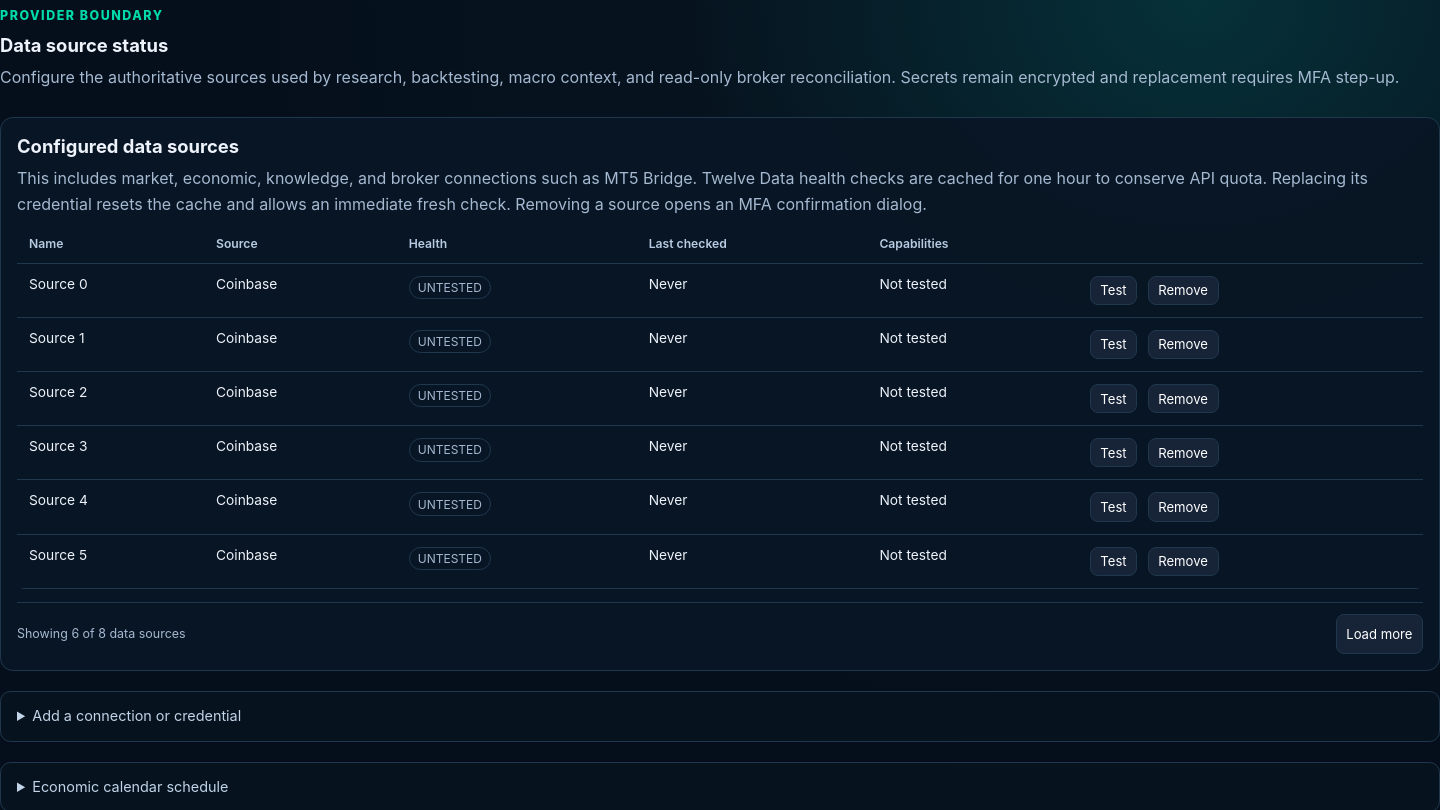
hiding and redisplaying a source retains its busy state and prevents duplicate checks
Click the button with aria-label "Load more data sources".
click(1379, 634)  # box [1336,614,1423,654]
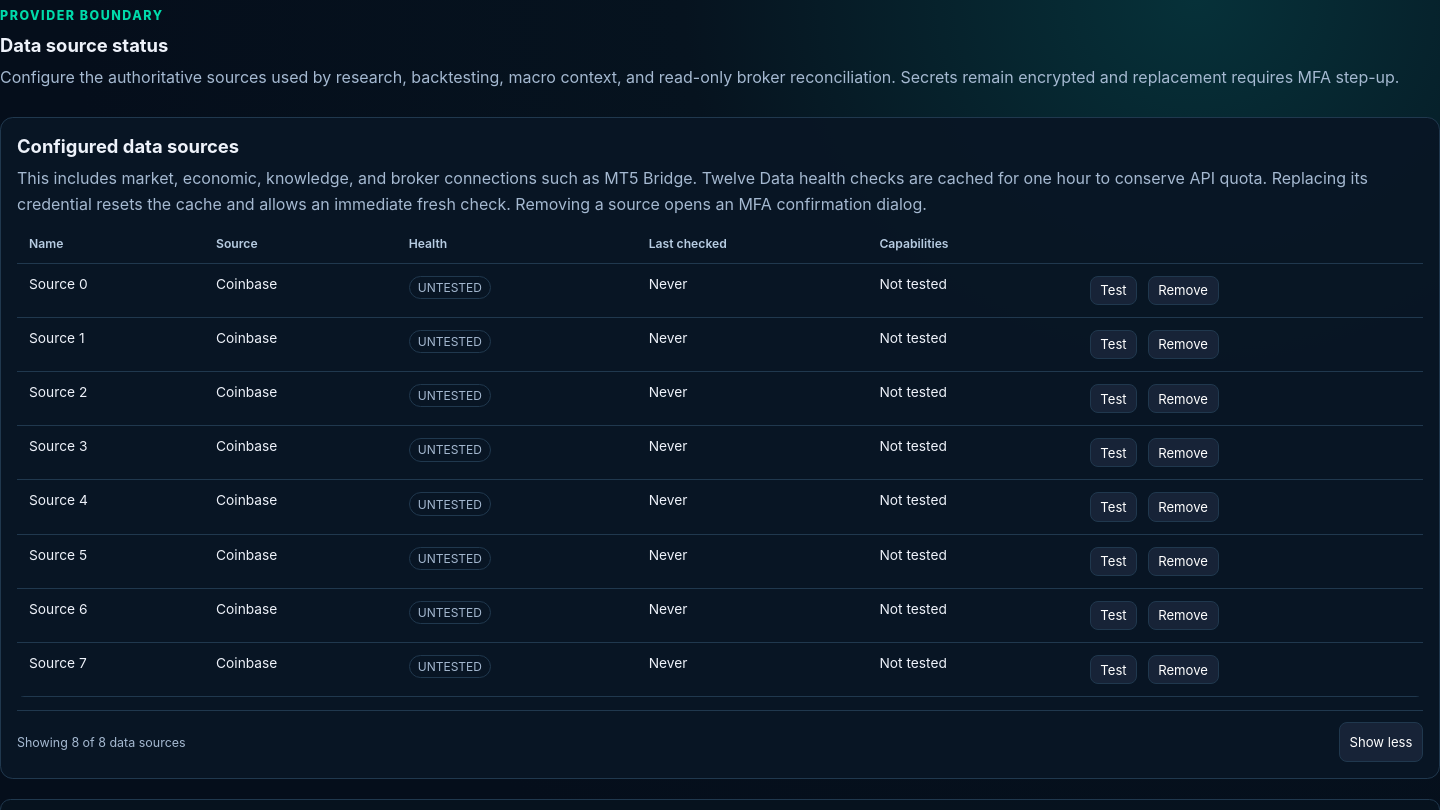
Click the button "Test" in the row of "Source 7".
click(1113, 670)  # box [1090,655,1137,684]
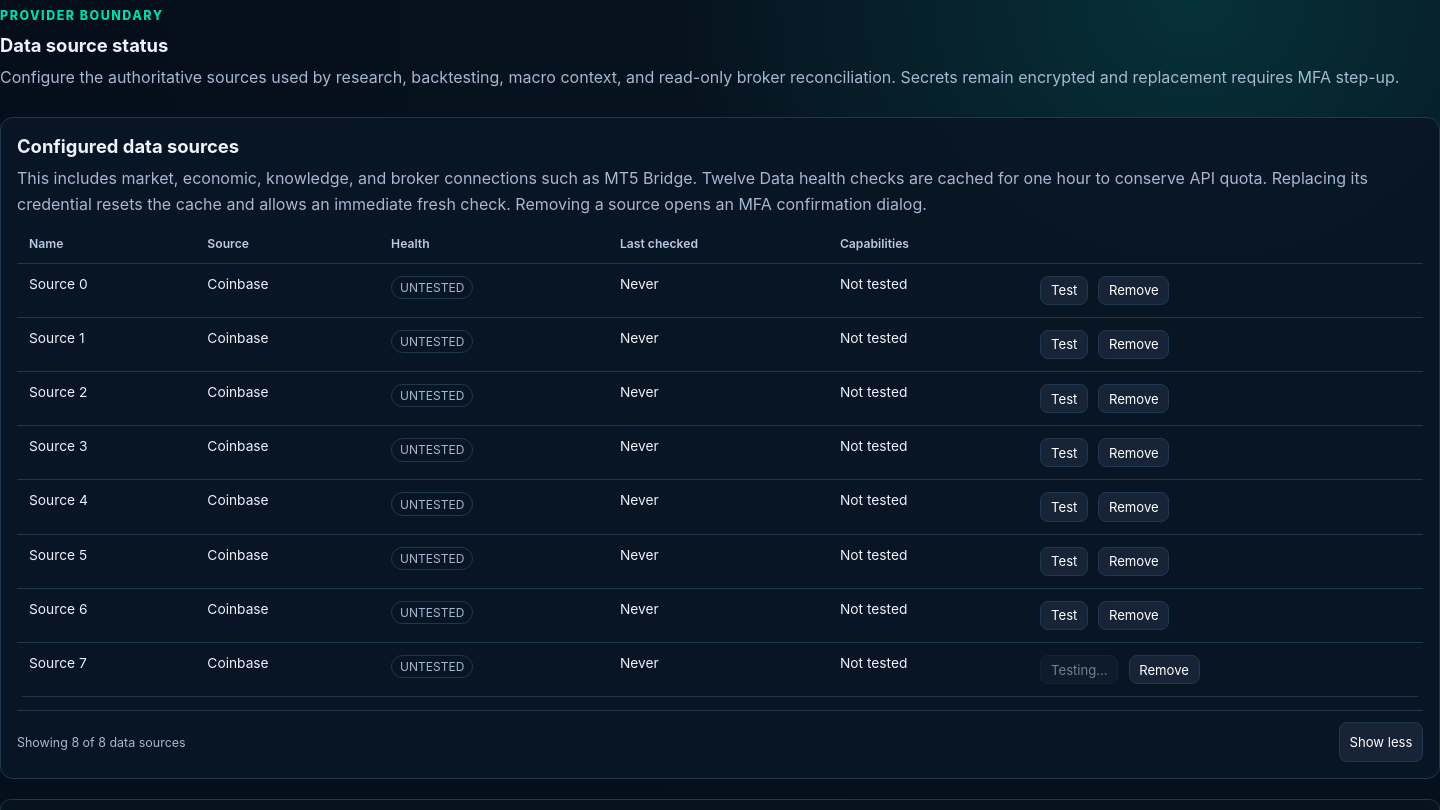
Click the button with aria-label "Show fewer data sources".
click(1381, 742)  # box [1339,722,1423,762]
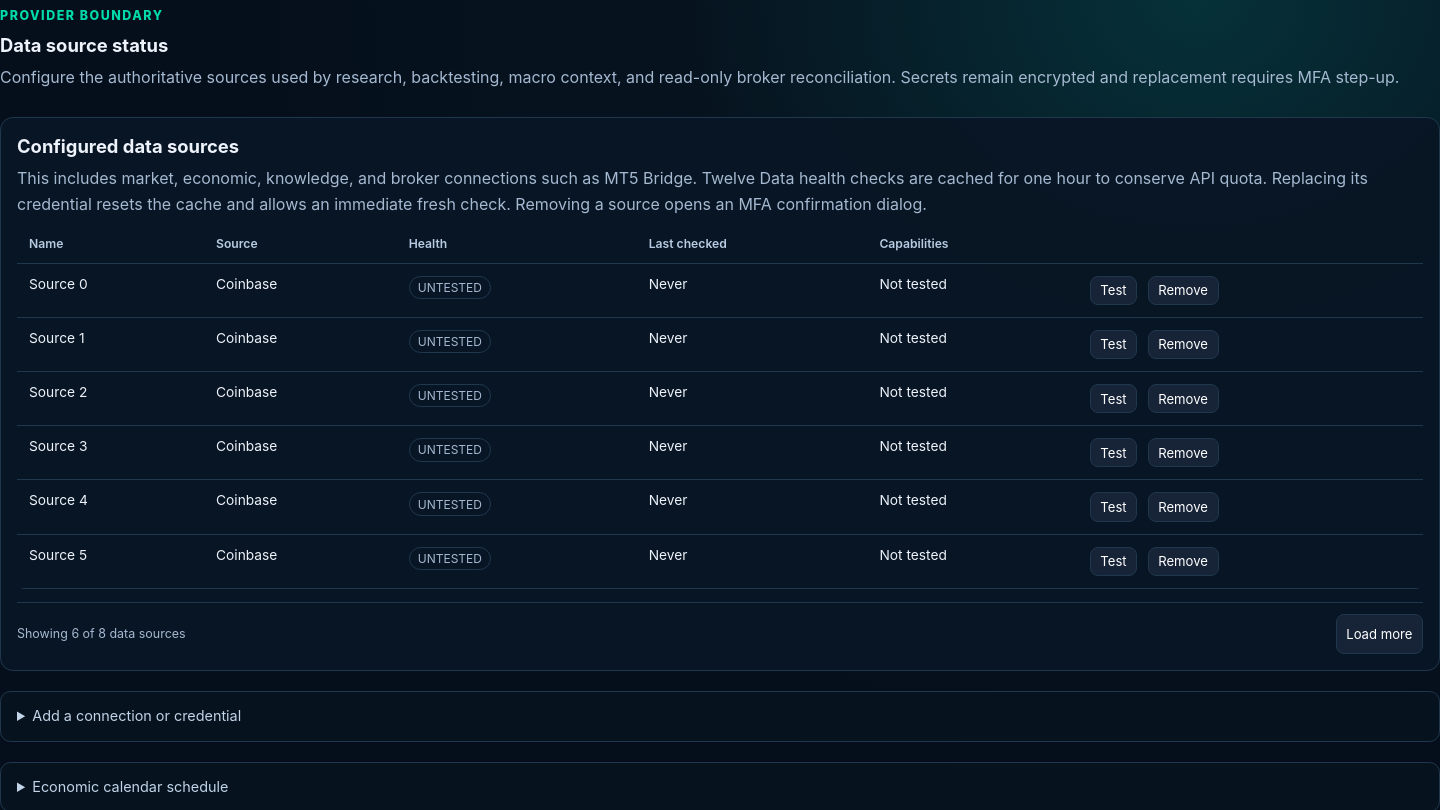
Now the text "Source 7" is gone
Click the button with aria-label "Load more data sources".
click(1379, 634)  # box [1336,614,1423,654]
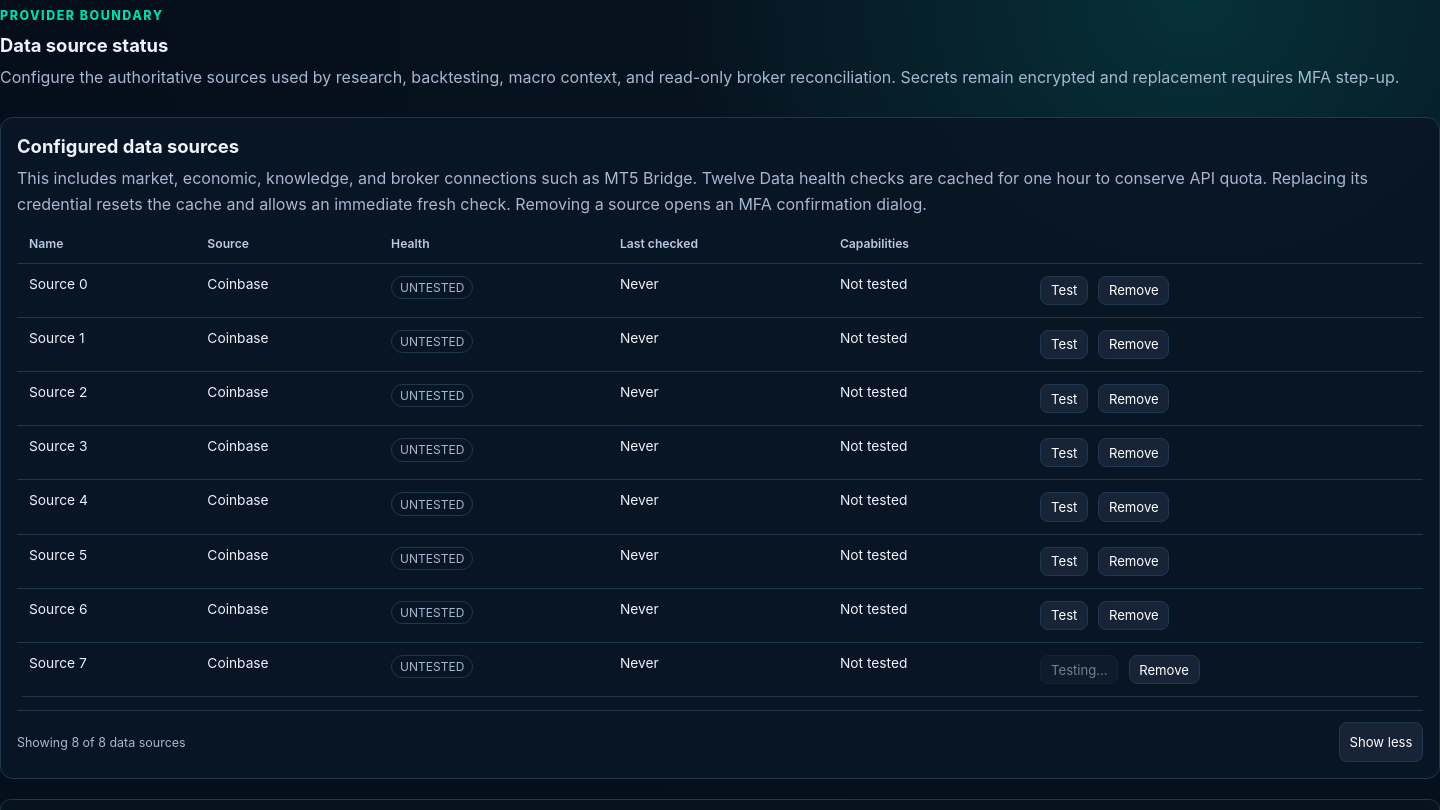
Now the button "Testing…" is disabled
Click the button "Testing…".
click(1079, 670)  # box [1040,655,1118,684]
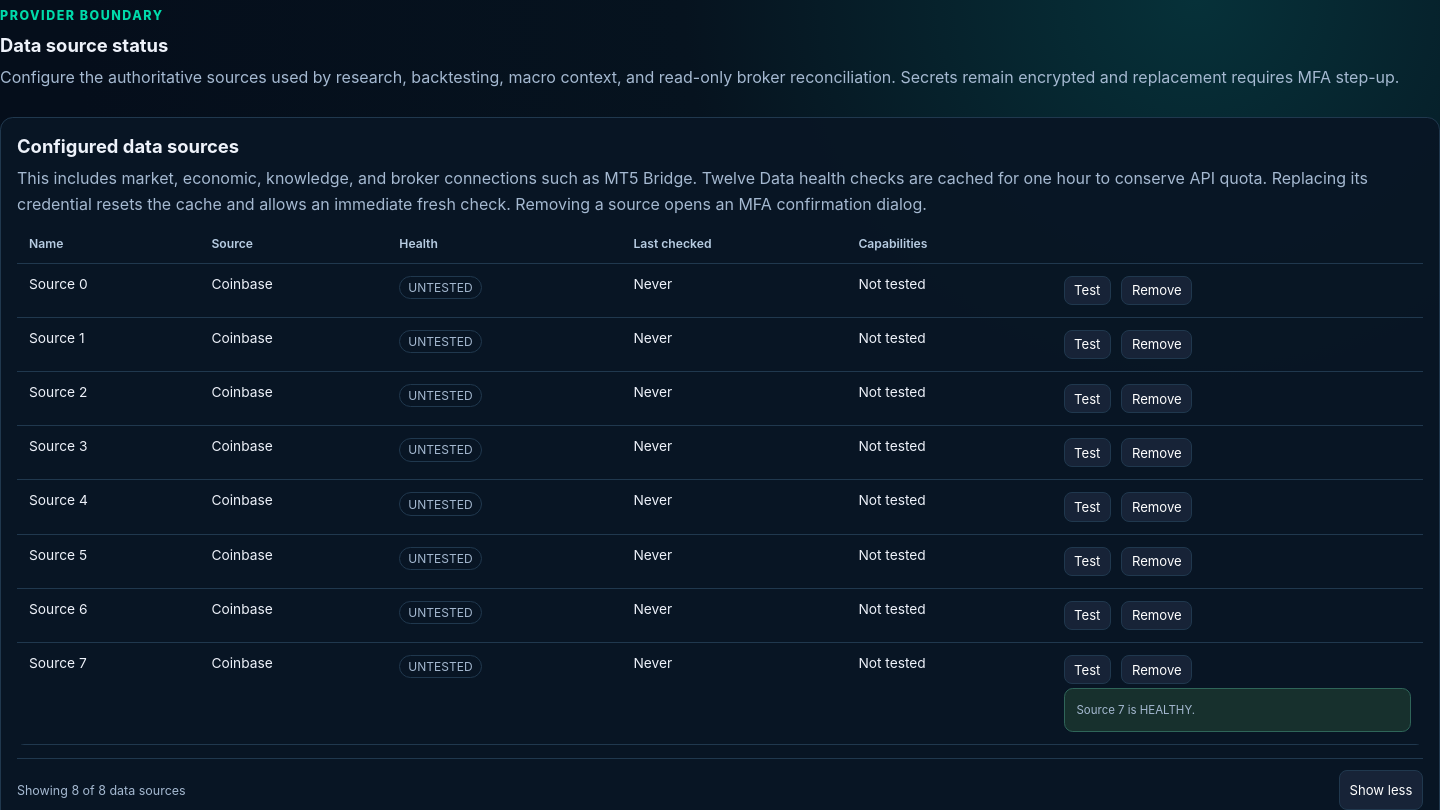
Now the 8th button "Test" is enabled, box [1064,655,1111,684]
